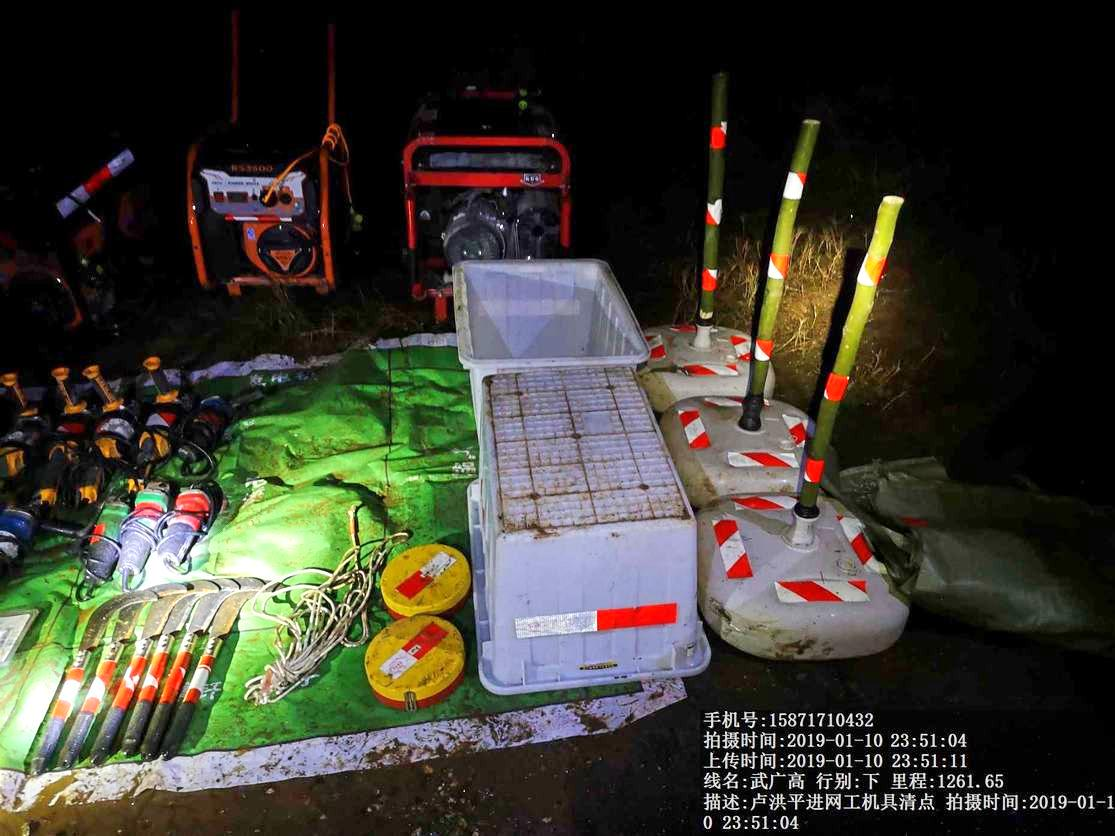DJ: (183, 23, 365, 301), (395, 80, 611, 253)
DMJ: (162, 475, 218, 575), (80, 488, 121, 579), (125, 481, 161, 577)
DZ: (80, 366, 139, 469), (138, 345, 187, 469), (34, 367, 83, 471), (1, 365, 31, 475)
JC: (358, 614, 468, 714), (377, 530, 469, 613)
ST: (715, 186, 916, 662), (656, 104, 731, 370)
T: (465, 368, 723, 693), (439, 250, 658, 369)
